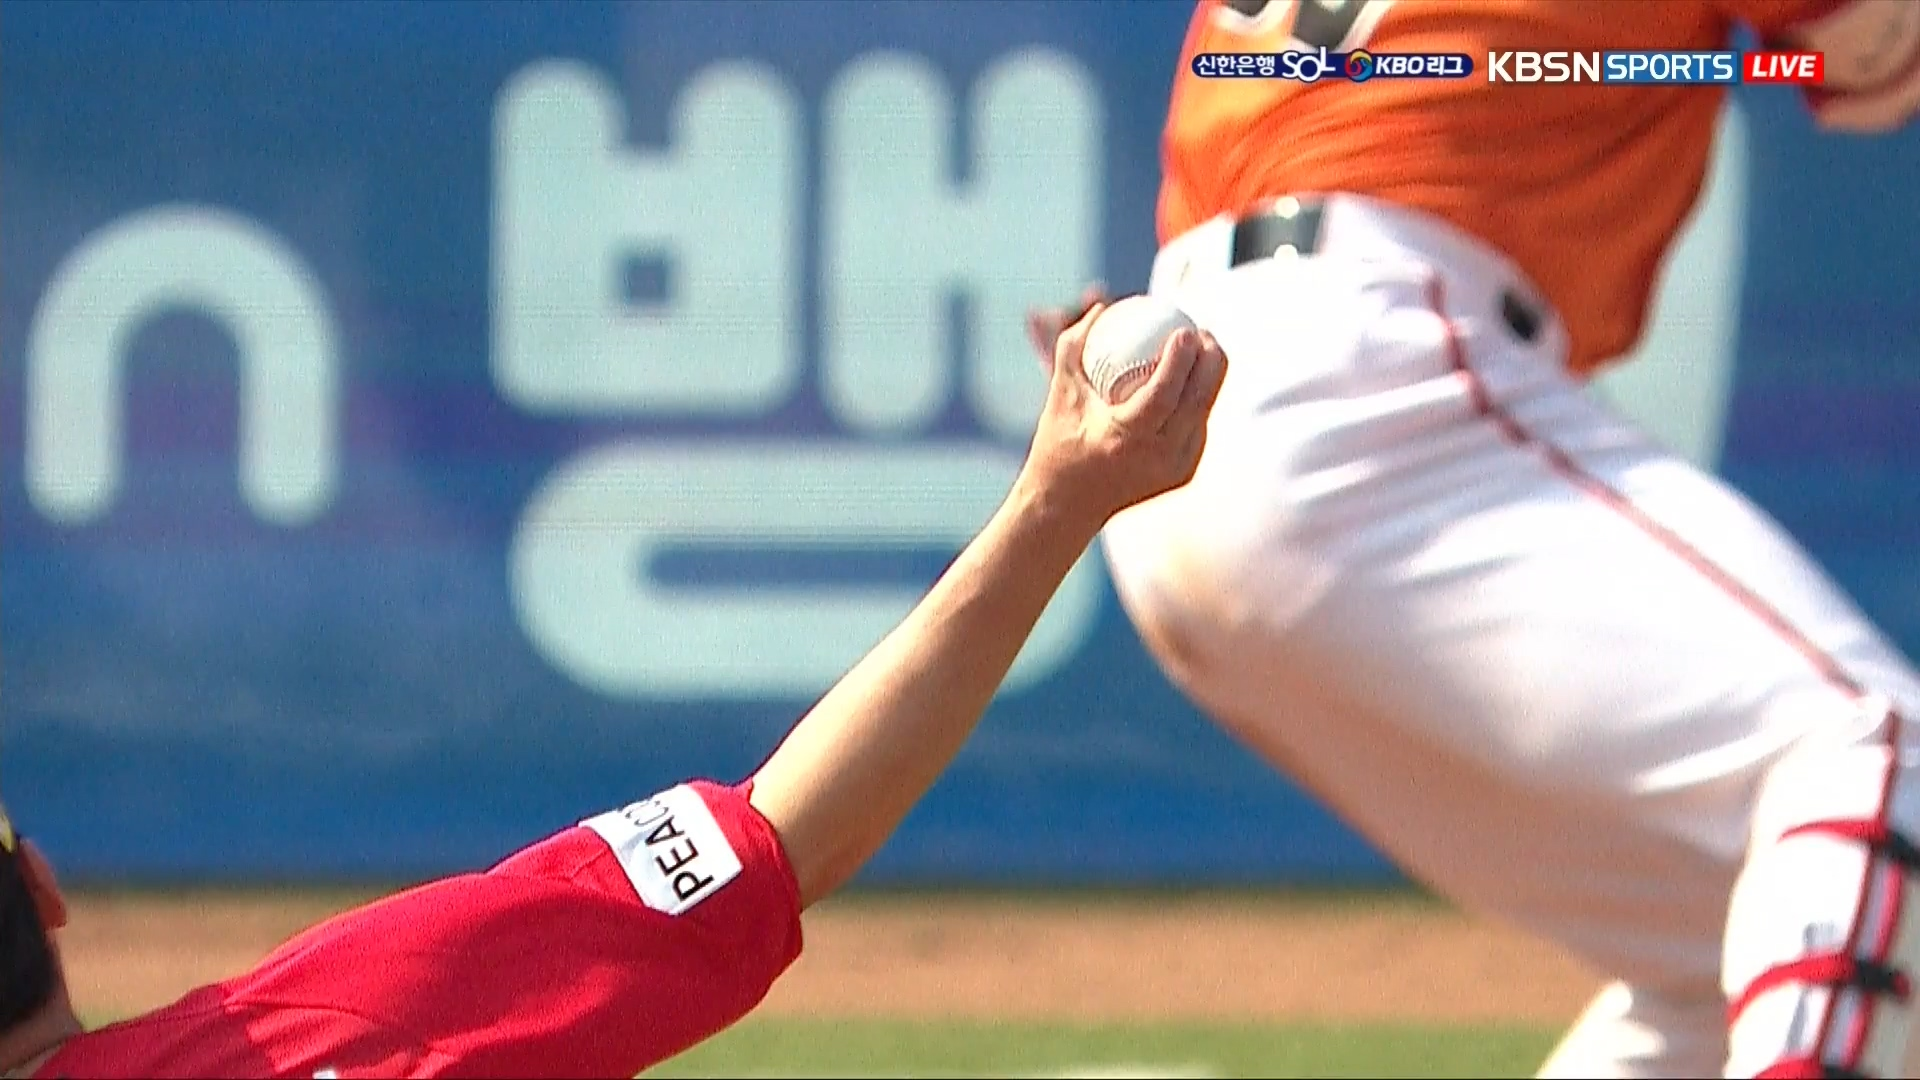zoomin_hand: (767, 253, 1234, 907)
